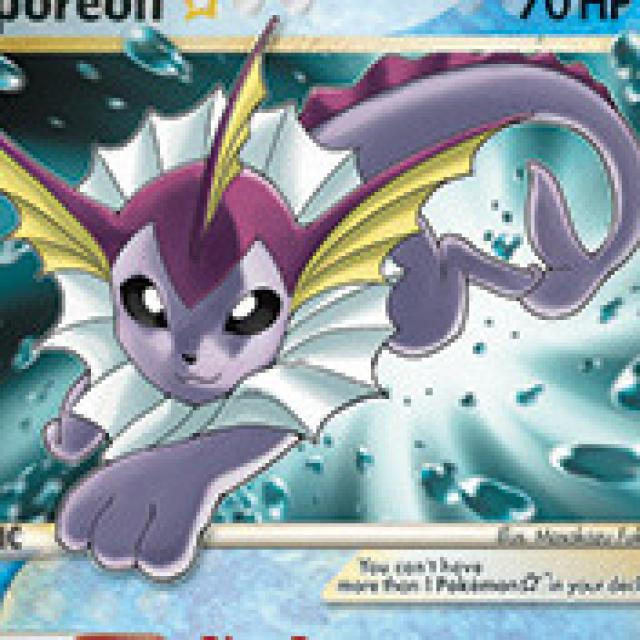Vaporeon: (0, 62, 552, 466)
